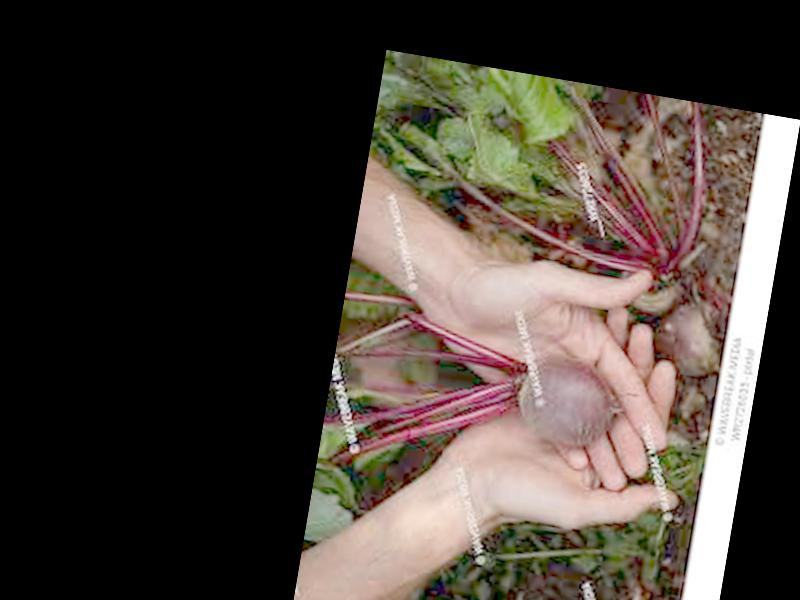Beet: (325, 300, 633, 514)
